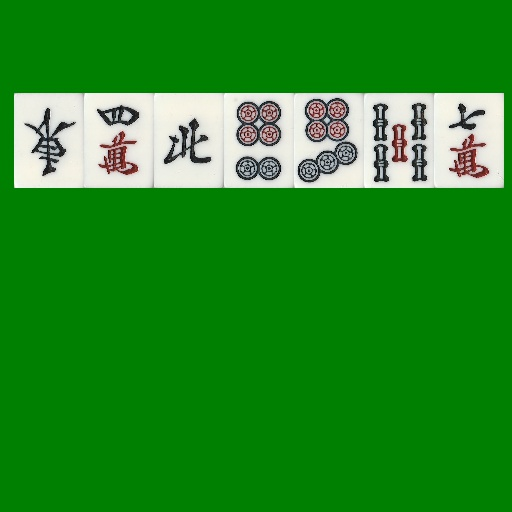4m: (84, 93, 154, 188)
5s: (364, 93, 434, 188)
6p: (224, 93, 294, 188)
7m: (434, 93, 504, 188)
7p: (294, 93, 364, 188)
east: (14, 93, 84, 188)
north: (154, 93, 224, 188)
